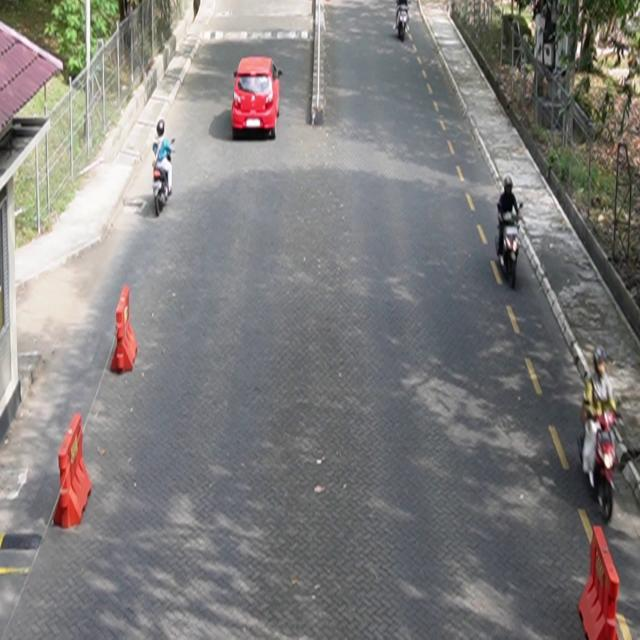car: (232, 56, 283, 140)
